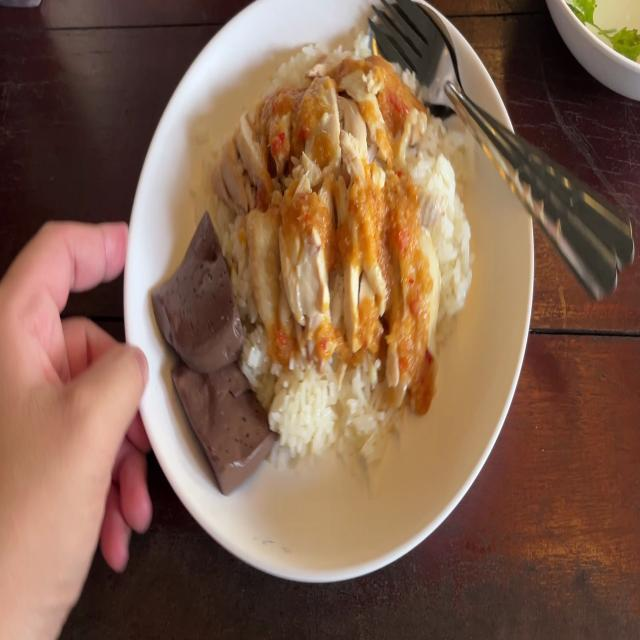chicken_rice: (233, 63, 403, 338)
noodle: (171, 342, 268, 485), (154, 212, 240, 366)
